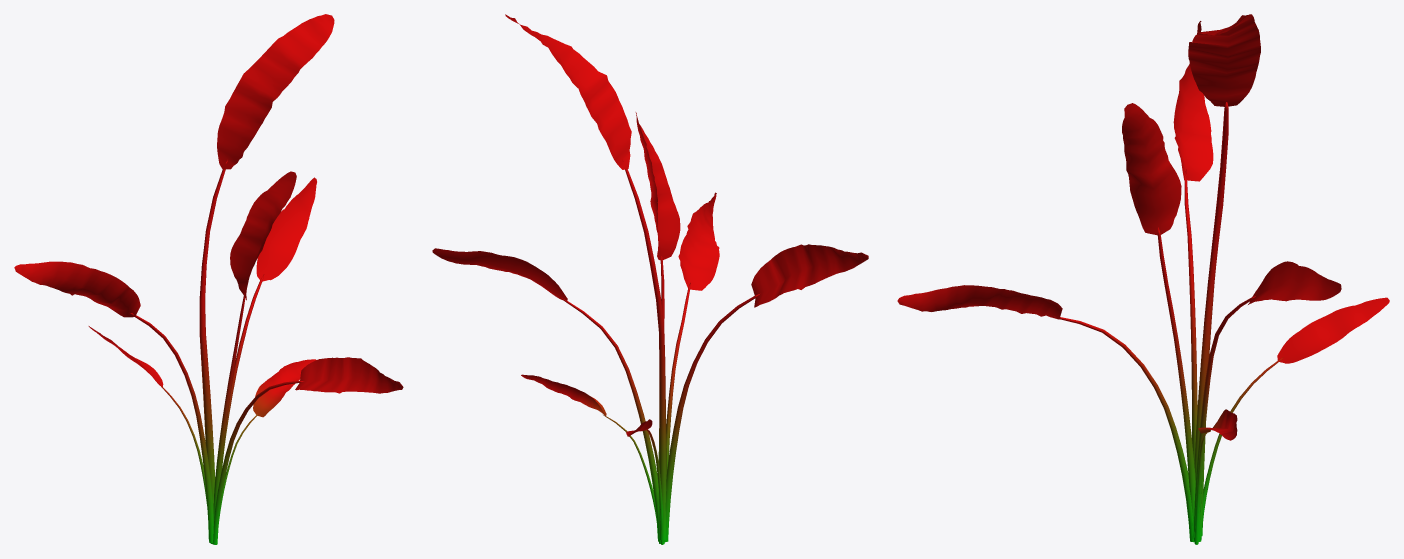
File: Bird Of Paradise_LOD2_Var8_wfypeifha.fbx
3 views of the same model, side by side, from view 1: azimuth 30°, elevation 25°; view 2: azimuth 150°, elevation 25°; view 3: azimuth 270°, elevation 25° (orthographic). The views are drawn at different scales.
Parts seen in each view (by area): view 1: _7qmj_Var8_LOD2; view 2: _7qmj_Var8_LOD2; view 3: _7qmj_Var8_LOD2.
Boxes of the visible parts, x1,y1,x2,y2 form: _7qmj_Var8_LOD2: [14, 14, 403, 544]; _7qmj_Var8_LOD2: [432, 14, 868, 544]; _7qmj_Var8_LOD2: [897, 14, 1389, 544].
Size of the model in its own units: 141 by 182 by 135.
